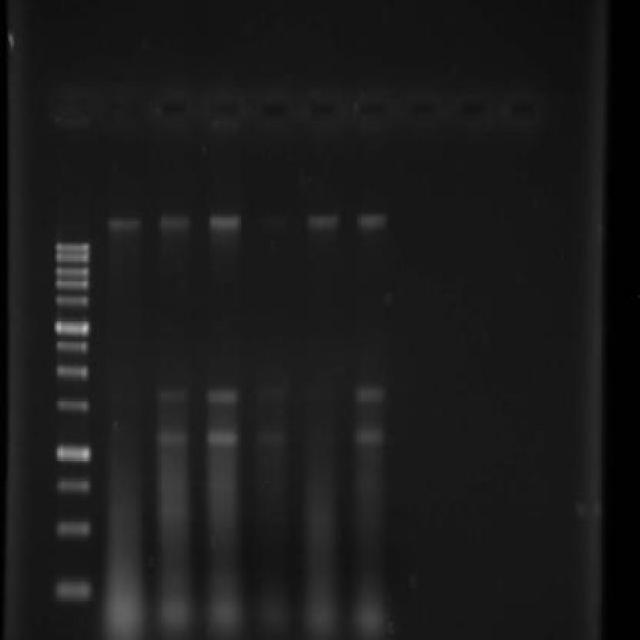B: (151, 381, 192, 410), (352, 208, 394, 234), (102, 213, 146, 236), (350, 422, 390, 447), (207, 209, 242, 237), (350, 380, 387, 406), (154, 424, 191, 450), (304, 209, 340, 234), (202, 428, 242, 450), (156, 212, 193, 235), (202, 386, 240, 408), (254, 211, 291, 232), (254, 427, 288, 447), (253, 384, 287, 401)
L: (46, 66, 559, 149)
M: (46, 227, 100, 610)
P: (52, 575, 94, 603), (54, 516, 91, 542), (54, 474, 92, 498), (54, 442, 92, 466), (51, 316, 91, 338), (53, 396, 90, 418), (51, 338, 90, 357), (52, 293, 91, 312), (52, 364, 91, 382), (53, 278, 92, 292), (52, 266, 91, 280), (53, 240, 92, 254), (52, 252, 92, 265)
Pc: (296, 81, 349, 140), (144, 80, 198, 134), (248, 78, 297, 137), (198, 78, 246, 136), (351, 80, 398, 136), (52, 76, 98, 132), (402, 82, 449, 136), (497, 86, 546, 132), (98, 81, 142, 130), (452, 84, 494, 132)
